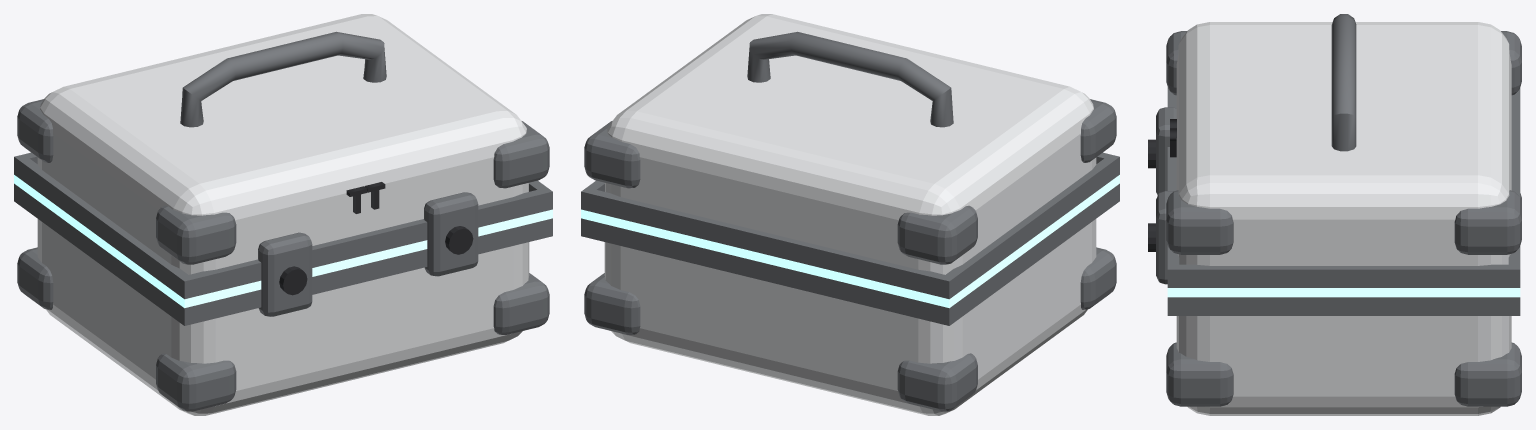
The model's file is chrome.fbx.
The picture shows the model from 3 angles, left to right: view 1: azimuth 30°, elevation 25°; view 2: azimuth 150°, elevation 25°; view 3: azimuth 270°, elevation 25°; orthographic projection. The views are drawn at different scales.
Visible parts, largest first — view 1: steel_1, gun_1, glow_ice_1, dark_1; view 2: steel_1, gun_1, glow_ice_1; view 3: steel_1, gun_1, glow_ice_1, dark_1.
Boxes of the visible parts, left/top/right/bottom form: steel_1: left=37, top=14, right=529, bottom=415; gun_1: left=14, top=31, right=552, bottom=411; glow_ice_1: left=14, top=175, right=552, bottom=308; dark_1: left=279, top=182, right=473, bottom=295; steel_1: left=604, top=14, right=1096, bottom=415; gun_1: left=581, top=31, right=1119, bottom=411; glow_ice_1: left=581, top=175, right=1119, bottom=308; steel_1: left=1176, top=22, right=1511, bottom=415; gun_1: left=1156, top=14, right=1521, bottom=406; glow_ice_1: left=1167, top=288, right=1520, bottom=297; dark_1: left=1148, top=119, right=1176, bottom=251.
Size of the model in its own units: 0.608 by 0.4441 by 0.513.
